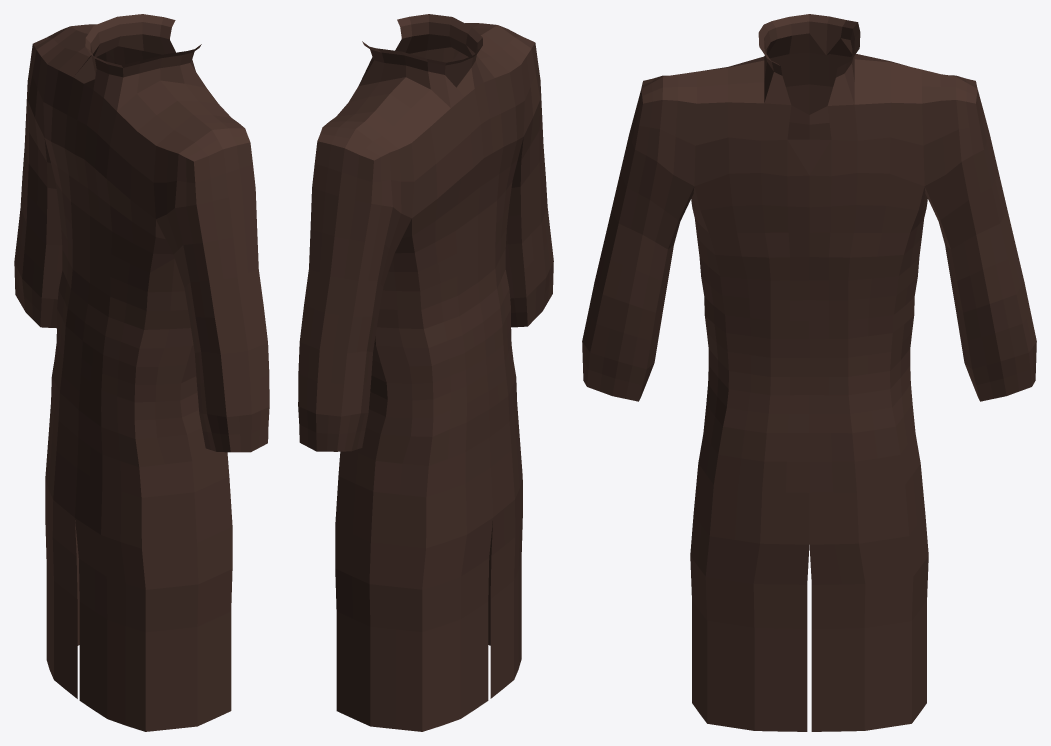
The model's file is Coat.fbx.
3 renders of one model, left to right at view 1: azimuth 30°, elevation 25°; view 2: azimuth 150°, elevation 25°; view 3: azimuth 270°, elevation 25°, orthographic. The views are drawn at different scales.
Parts seen in each view (by area): view 1: Cube; view 2: Cube; view 3: Cube.
Part boxes in pixels (x1,y1,x2,y2): Cube: (14,14,269,731); Cube: (298,14,553,731); Cube: (582,14,1036,731).
Size of the model in its own units: 165 by 808 by 496.
